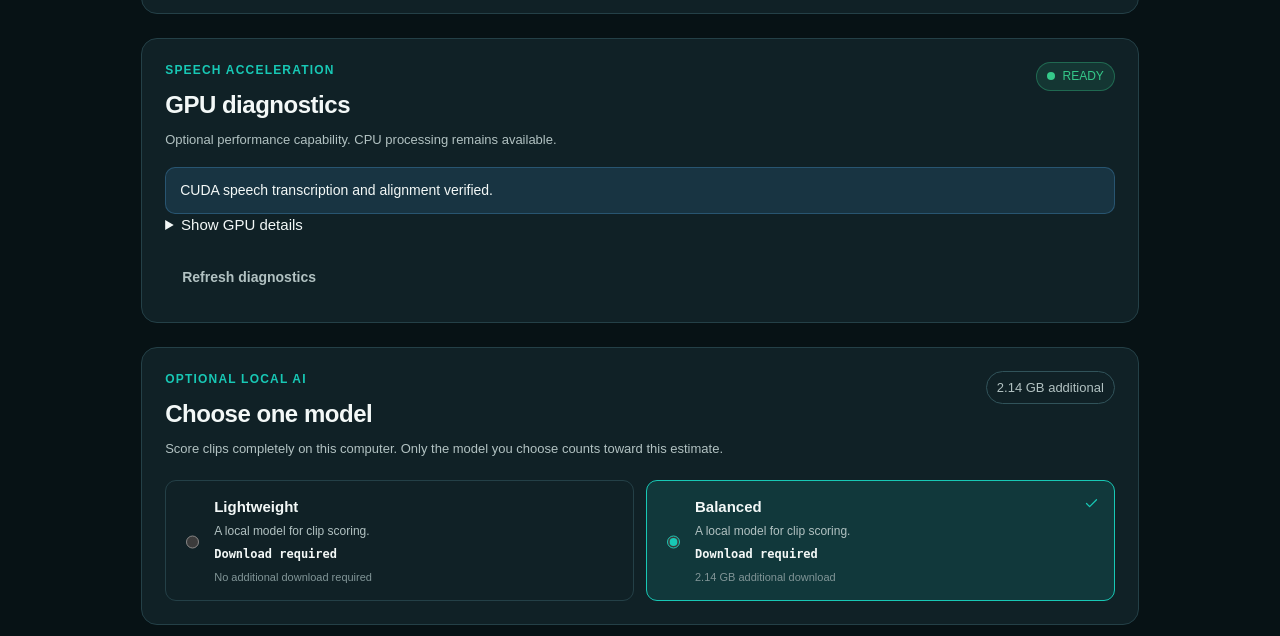
Test: v0.5 information architecture › retains the last verified GPU state when refresh fails
(page scrolled)
Click the button "Refresh diagnostics": (249, 277) [165,256,333,299]
(page scrolled)
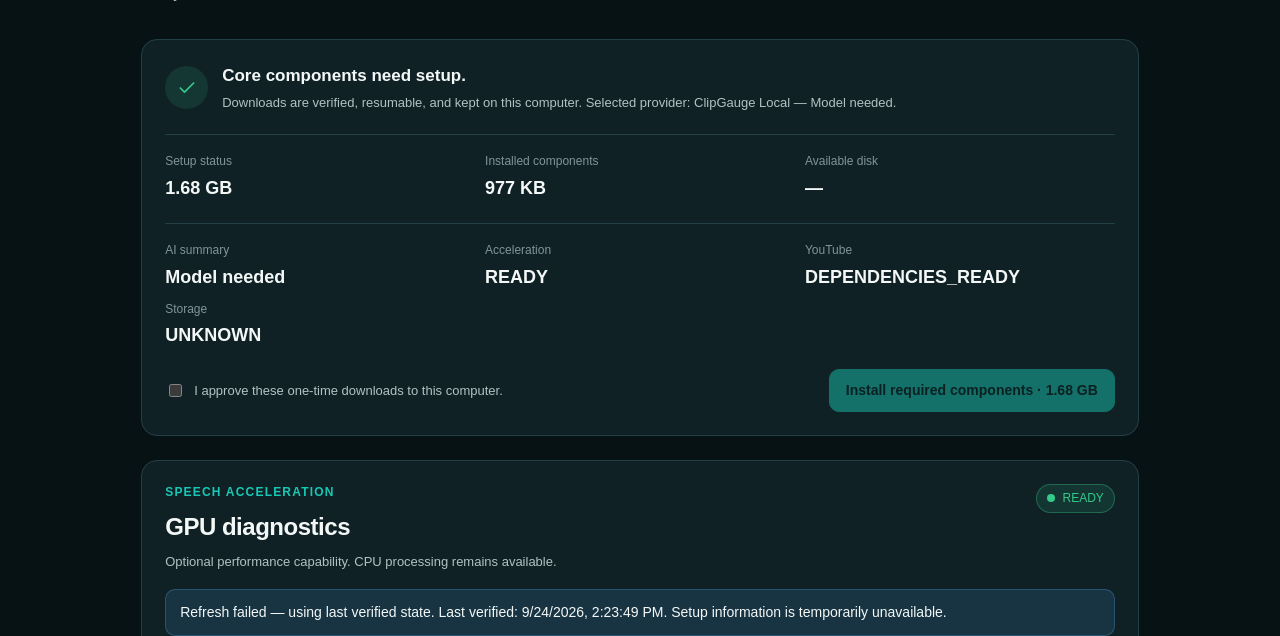
Expected: the text "READY" is shown, [485,267,548,287]
Expected: the text "using last verified state" is shown, [180,604,947,620]
